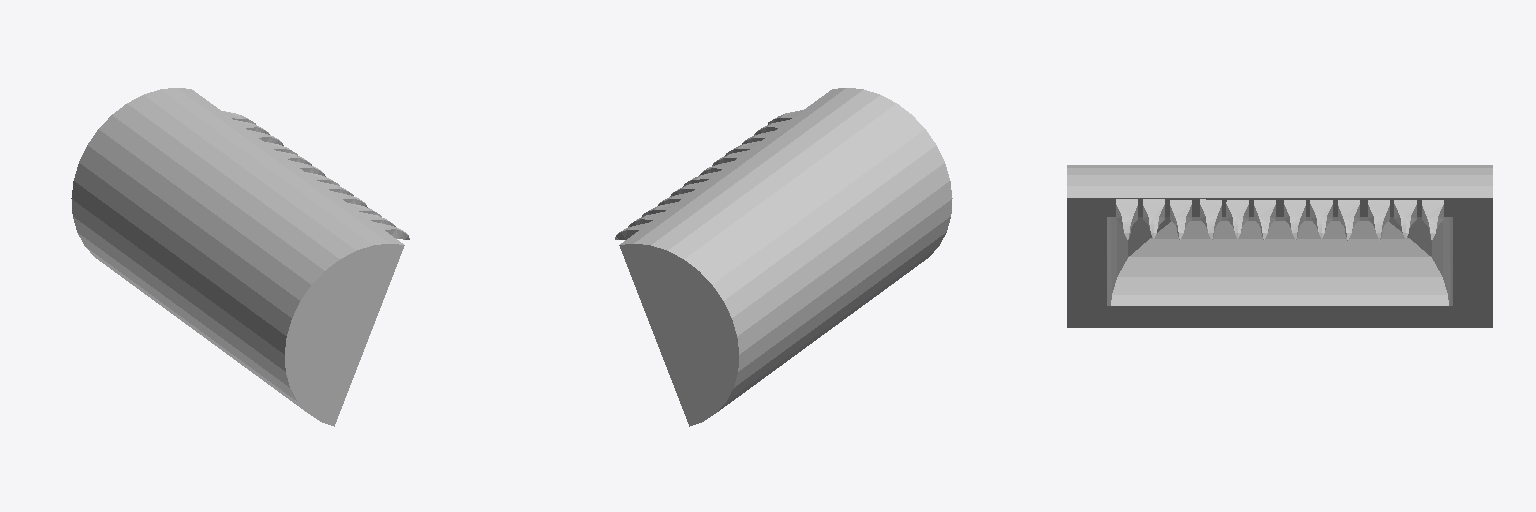
Rendered from Mimic_Top.obj.
The picture shows the model from 3 angles: view 1: azimuth 30°, elevation 25°; view 2: azimuth 150°, elevation 25°; view 3: azimuth 270°, elevation 25°; orthographic projection.
Parts seen in each view (by area): view 1: Cylinder; view 2: Cylinder; view 3: Cylinder.
Part boxes in pixels (x1,y1,x2,y2): Cylinder: (71,88,409,426); Cylinder: (615,88,952,426); Cylinder: (1067,165,1492,327).
Size of the model in its own units: 1.5 by 1.58 by 3.55.